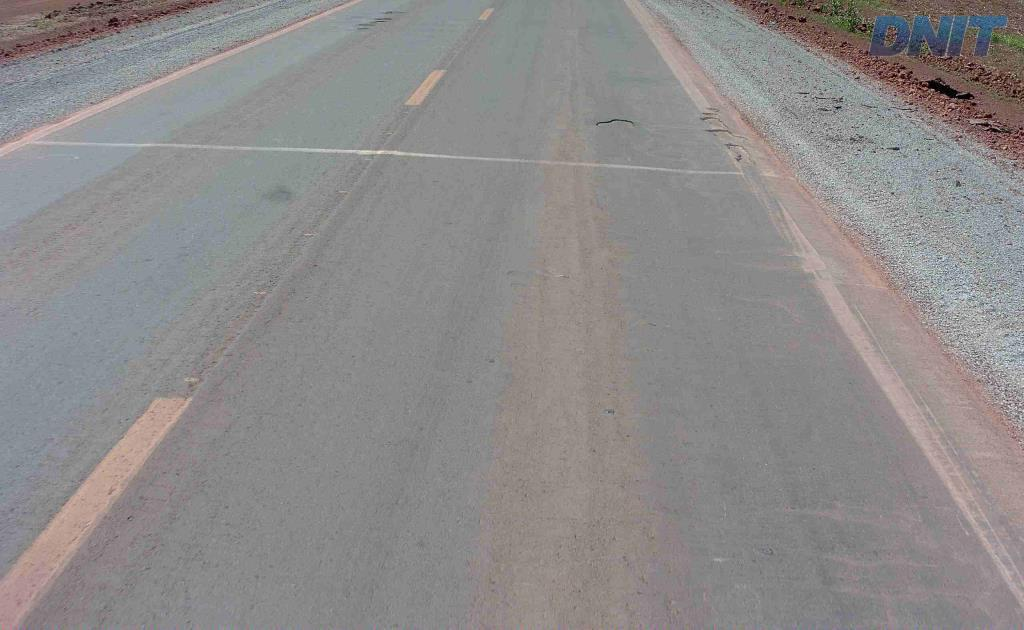pothole: (593, 113, 640, 130)
